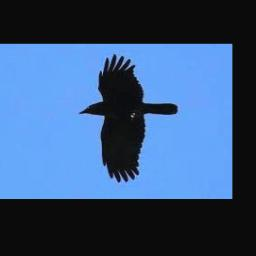Crow: (79, 54, 178, 183)
